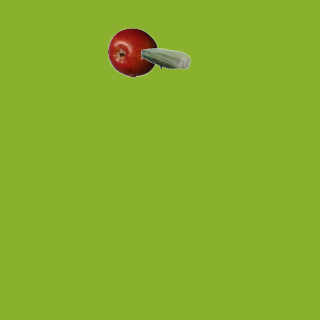Apple Braeburn: (107, 27, 157, 77)
Corn Husk: (140, 33, 190, 83)
